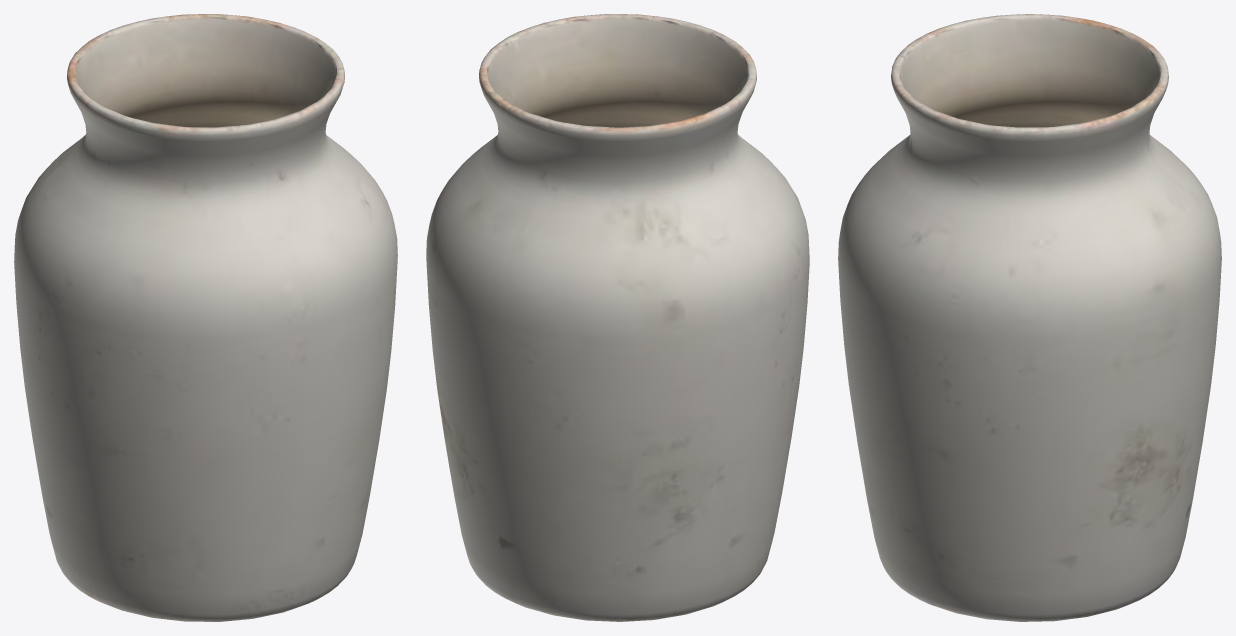
The model's file is ceramic_vase_02.glb.
The picture shows the model from 3 angles, left to right: view 1: azimuth 30°, elevation 25°; view 2: azimuth 150°, elevation 25°; view 3: azimuth 270°, elevation 25°; orthographic projection.
Parts seen in each view (by area): view 1: ceramic_vase_02_lod0; view 2: ceramic_vase_02_lod0; view 3: ceramic_vase_02_lod0.
Boxes of the visible parts, x1,y1,x2,y2 form: ceramic_vase_02_lod0: [14, 14, 397, 621]; ceramic_vase_02_lod0: [426, 14, 809, 621]; ceramic_vase_02_lod0: [838, 14, 1221, 621].
Size of what is drawn, in the model's own units: 0.2184 by 0.3092 by 0.2184.
Materials: 1 (1 with a texture image).
